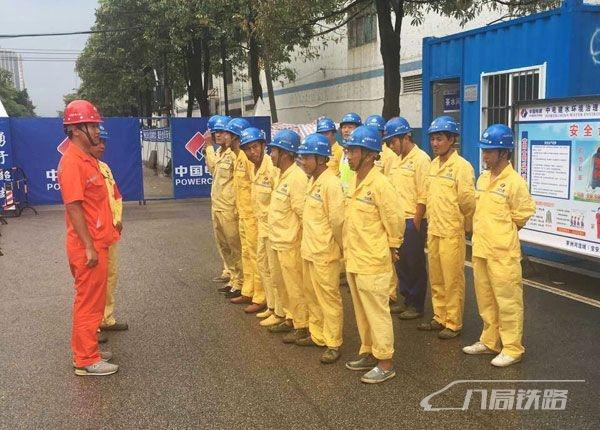helmet: (63, 100, 108, 130), (480, 123, 520, 153), (296, 133, 336, 159), (345, 126, 382, 153), (270, 126, 300, 155), (382, 116, 417, 139), (427, 115, 462, 137), (227, 115, 253, 135), (238, 127, 266, 145), (315, 116, 339, 132), (340, 111, 364, 124), (212, 117, 231, 132), (367, 115, 383, 128)
wear: (59, 154, 112, 266), (342, 178, 394, 272), (472, 172, 521, 263), (428, 162, 473, 240), (304, 179, 342, 268), (389, 151, 428, 218), (271, 175, 304, 249), (248, 166, 272, 226), (213, 158, 238, 215)
